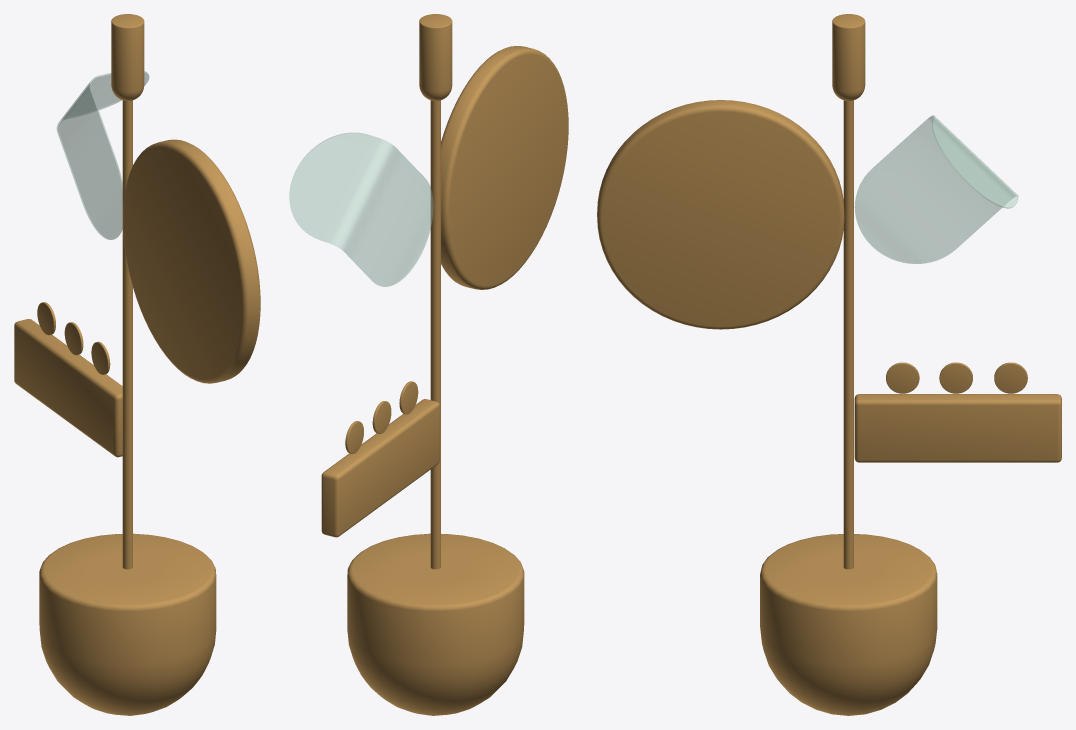
Rendered from sculpture.glb.
3 views of the same model, side by side, from view 1: azimuth 30°, elevation 25°; view 2: azimuth 150°, elevation 25°; view 3: azimuth 270°, elevation 25° (orthographic).
Visible parts, largest first — view 1: Cube.014, Cylinder.002, Cube.015, water_new.006, Cylinder.004, Cube.016, Cylinder.007, Cylinder.006, Cylinder.008; view 2: Cube.014, Cylinder.002, water_new.006, Cube.015, Cylinder.004, Cube.016, Cylinder.006, Cylinder.007, Cylinder.008; view 3: Cylinder.002, Cube.014, water_new.006, Cube.015, Cylinder.004, Cube.016, Cylinder.008, Cylinder.006, Cylinder.007.
Part boxes in pixels (x1,y1,x2,y2): Cube.014: [39, 533, 216, 715]; Cylinder.002: [123, 139, 260, 383]; Cube.015: [14, 319, 122, 457]; water_new.006: [56, 71, 149, 239]; Cylinder.004: [122, 100, 132, 569]; Cube.016: [111, 14, 144, 100]; Cylinder.007: [64, 322, 83, 355]; Cylinder.006: [91, 341, 110, 374]; Cylinder.008: [37, 302, 55, 335]; Cube.014: [347, 533, 524, 715]; Cylinder.002: [441, 46, 568, 289]; water_new.006: [289, 132, 433, 286]; Cube.015: [321, 399, 439, 537]; Cylinder.004: [430, 100, 440, 569]; Cube.016: [419, 14, 452, 100]; Cylinder.006: [399, 381, 418, 414]; Cylinder.007: [372, 401, 391, 433]; Cylinder.008: [345, 421, 363, 453]; Cylinder.002: [597, 100, 844, 329]; Cube.014: [760, 534, 937, 715]; water_new.006: [854, 115, 1018, 263]; Cube.015: [854, 394, 1061, 462]; Cylinder.004: [843, 100, 853, 569]; Cube.016: [832, 14, 865, 100]; Cylinder.008: [994, 362, 1027, 393]; Cylinder.006: [886, 362, 919, 393]; Cylinder.007: [939, 362, 972, 393].
Size of the model in its own units: 0.2617 by 1.1 by 0.6732.
Materials: 2 (1 with a texture image).
